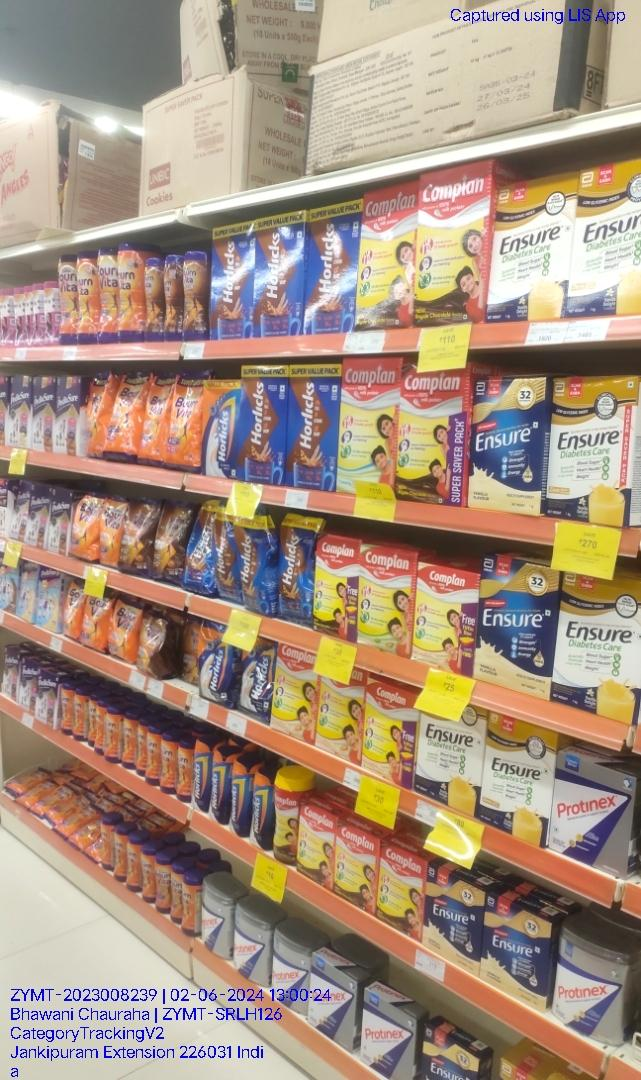BOURN_VITA_FIVE_STAR_MAGIC_500_G_JAR: (184, 251, 210, 340), (144, 259, 164, 341), (166, 256, 182, 342)
ENSURE_VANILLA_400_G_PACK: (467, 375, 542, 515)
